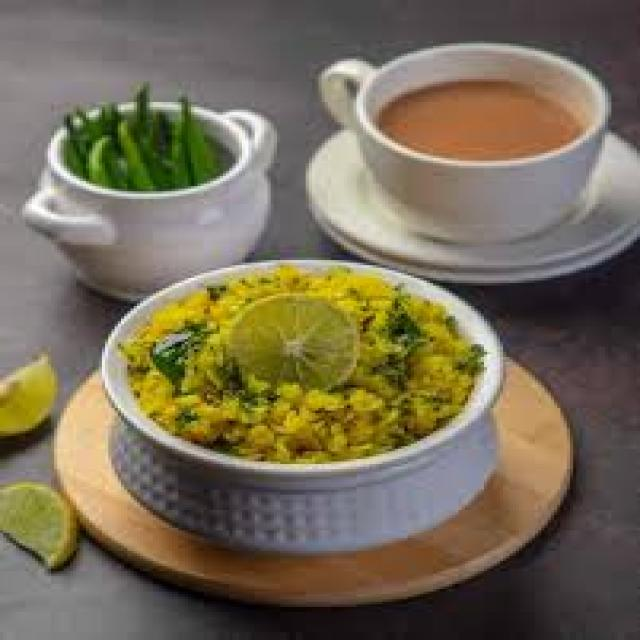POHA: (118, 272, 475, 459)
